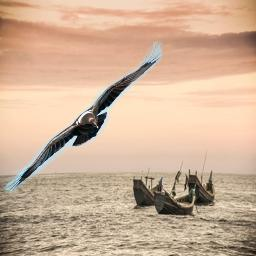Crow: (2, 41, 166, 193)
